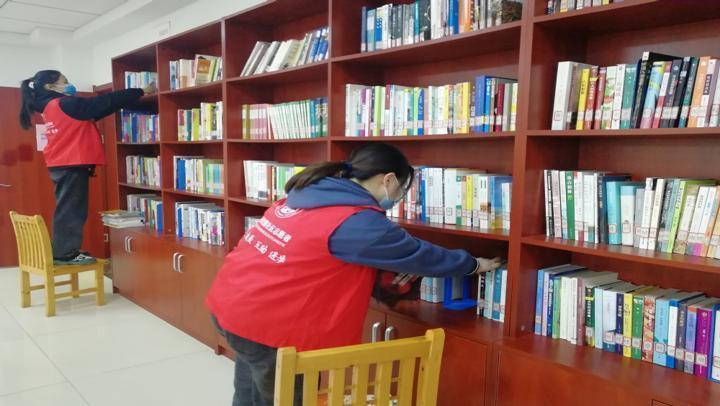safetyhat: (270, 139, 445, 352), (20, 54, 140, 262)
